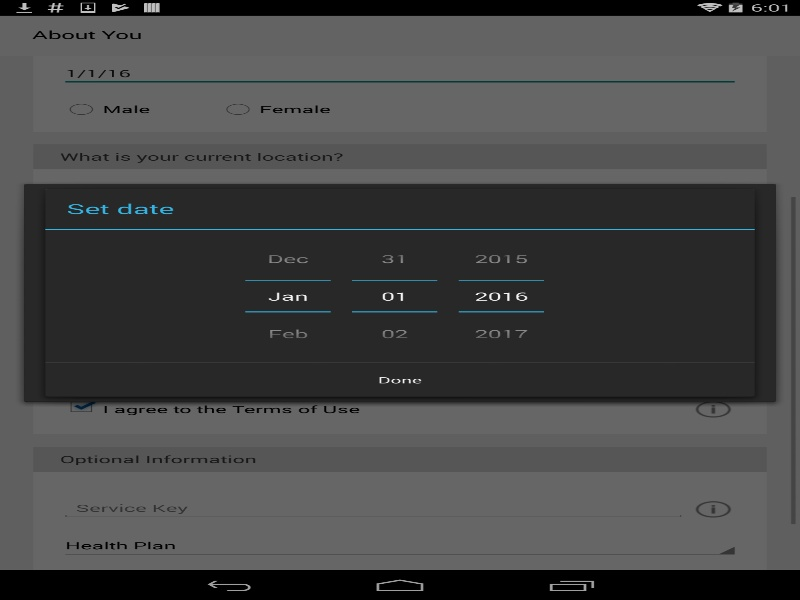Button: (45, 363, 754, 396), (458, 240, 544, 281), (458, 311, 544, 352), (245, 240, 330, 281), (245, 311, 330, 352), (352, 240, 437, 281), (352, 311, 437, 352)
Input: (458, 281, 544, 311), (245, 281, 330, 311), (352, 281, 437, 311)
